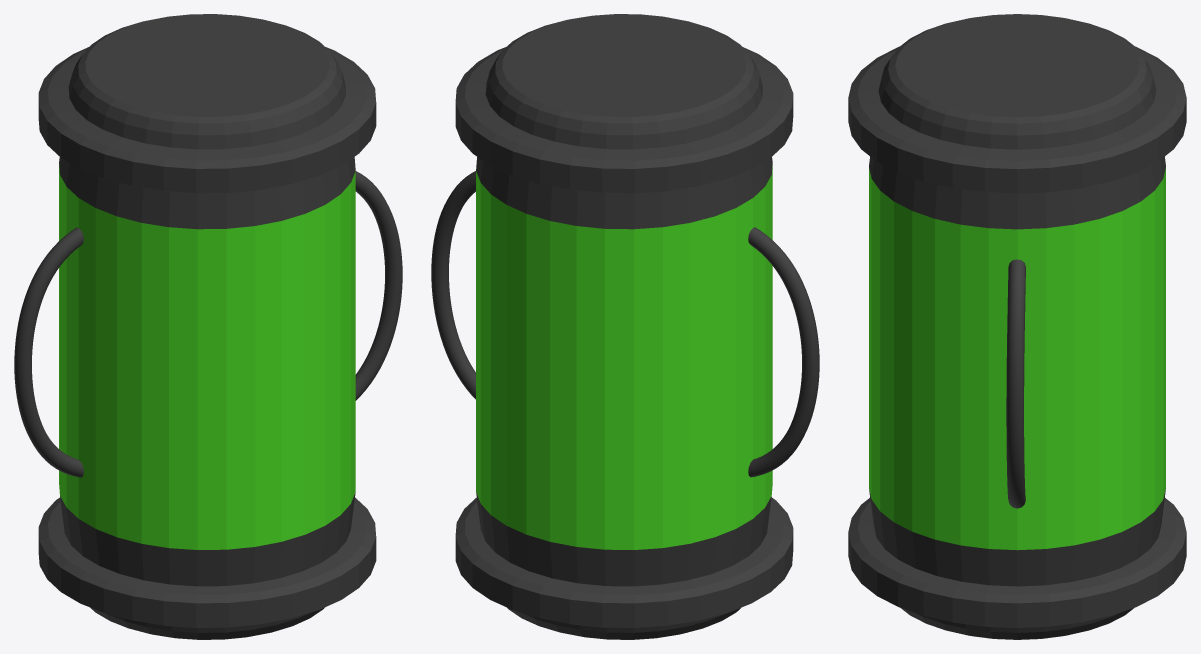
The model's file is resorsersCombine.fbx.
3 renders of one model, left to right at view 1: azimuth 30°, elevation 25°; view 2: azimuth 150°, elevation 25°; view 3: azimuth 270°, elevation 25°, orthographic.
Visible parts, largest first — view 1: Cylinder; view 2: Cylinder; view 3: Cylinder.
Part boxes in pixels (bbox=[...]): Cylinder: bbox=[14, 14, 402, 639]; Cylinder: bbox=[431, 14, 819, 639]; Cylinder: bbox=[848, 14, 1186, 639].
Size of the model in its own units: 253 by 327 by 192.
